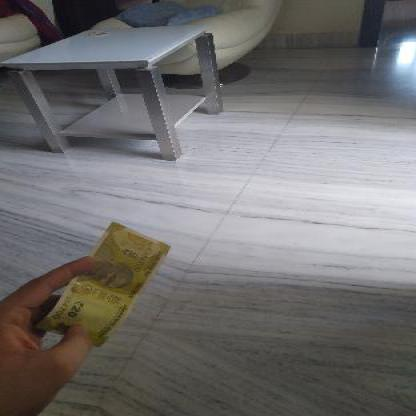New20Front: (37, 214, 167, 346)
